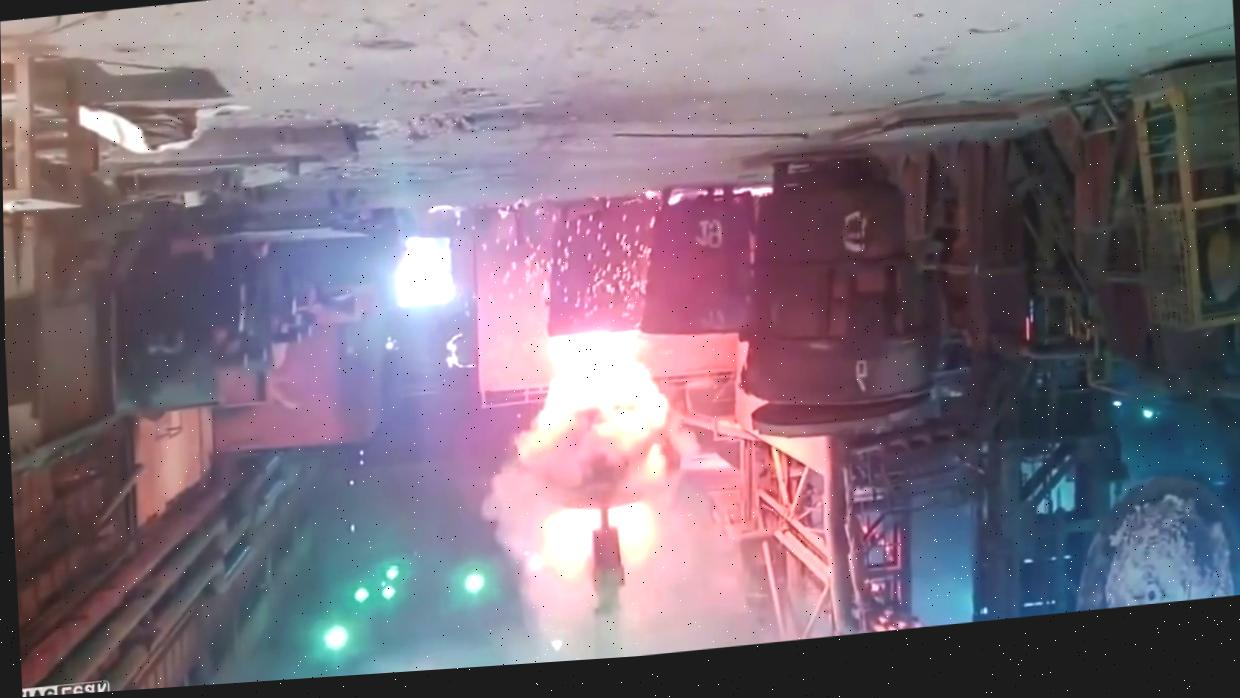fire: (427, 247, 832, 625)
